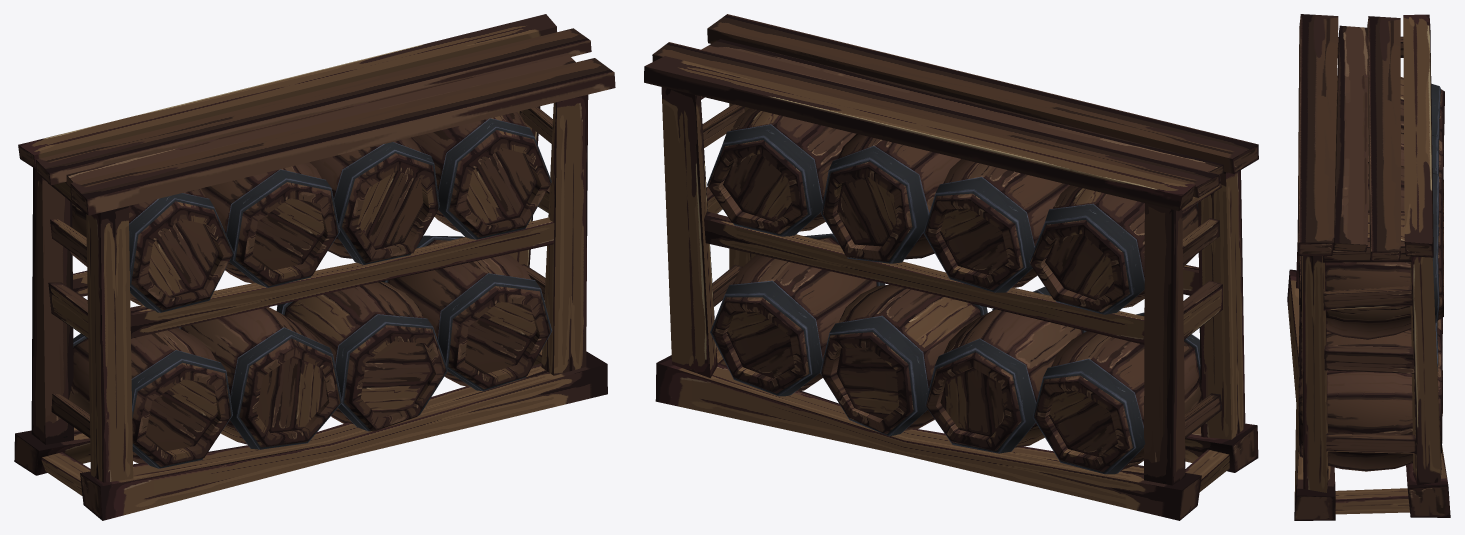
The model's file is SM_PROP_barrel_shelf_dungeon_01.fbx.
3 views of the same model, side by side, from view 1: azimuth 30°, elevation 25°; view 2: azimuth 150°, elevation 25°; view 3: azimuth 270°, elevation 25° (orthographic). The views are drawn at different scales.
Visible parts, largest first — view 1: SM_PROP_barrel_shelf_dungeon_01; view 2: SM_PROP_barrel_shelf_dungeon_01; view 3: SM_PROP_barrel_shelf_dungeon_01.
Part boxes in pixels (left/top/right/bottom): SM_PROP_barrel_shelf_dungeon_01: left=14, top=14, right=615, bottom=520; SM_PROP_barrel_shelf_dungeon_01: left=644, top=14, right=1258, bottom=520; SM_PROP_barrel_shelf_dungeon_01: left=1287, top=14, right=1450, bottom=520.
Bounding box in the file's own units: 329 × 185 × 96.33.
